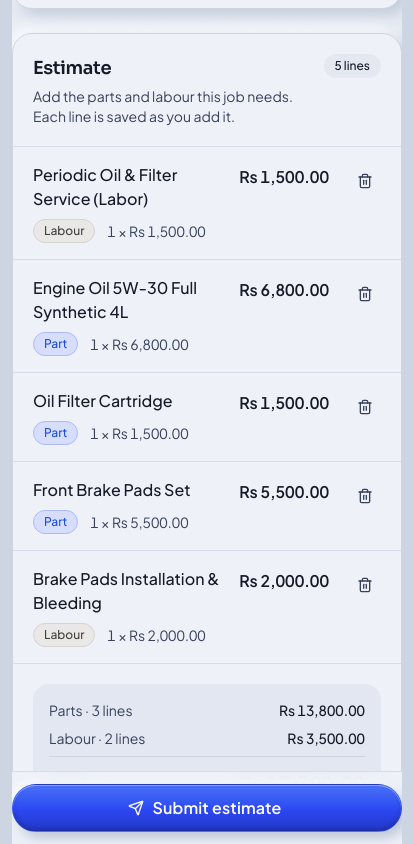
Test: T-02 job detail › removes a line while inspecting, saves the new total and keeps focus in the estimate
The image size is (414, 844).
(page scrolled)
Note: Phones get stacked rows and wide screens a table: the first copy is enough here.
Click the button named "Remove Oil Filter Cartridge": (365, 406) [341,382,389,430]
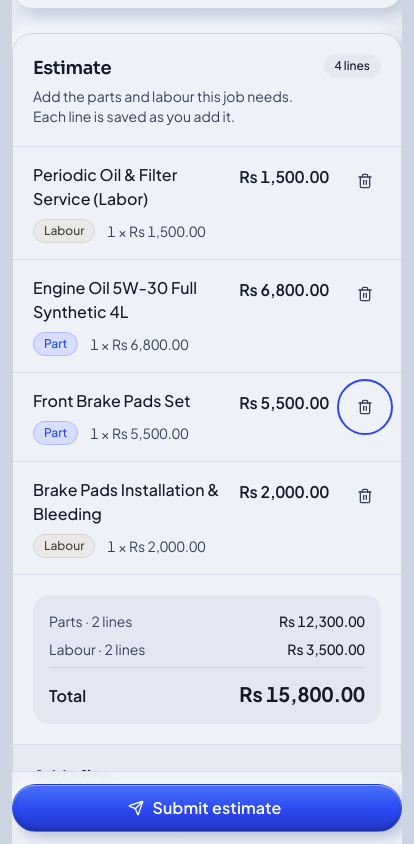
Check: the text "Oil Filter Cartridge" is gone
